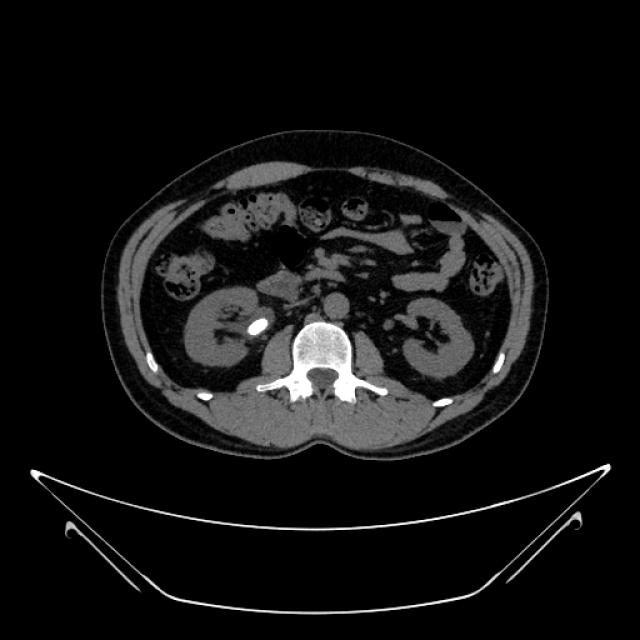kidney: (172, 280, 282, 374), (388, 294, 477, 384), (171, 328, 174, 330)
stone: (240, 313, 272, 342)
